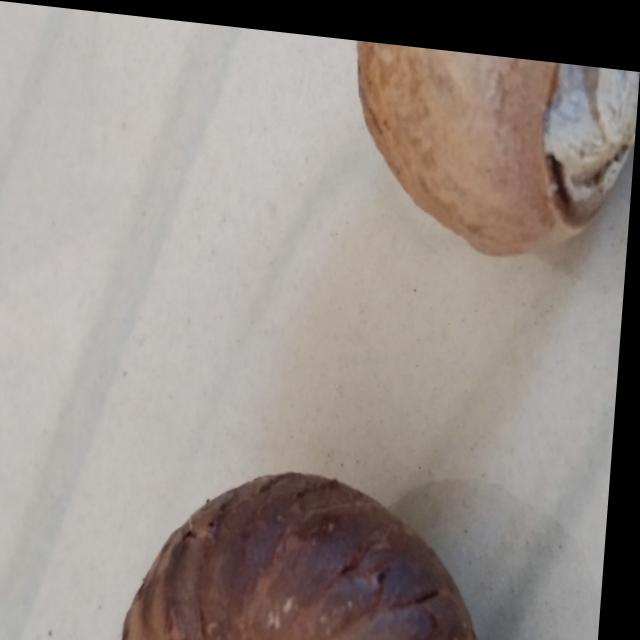karigot: (119, 450, 513, 640)
phatora: (340, 31, 639, 256)
